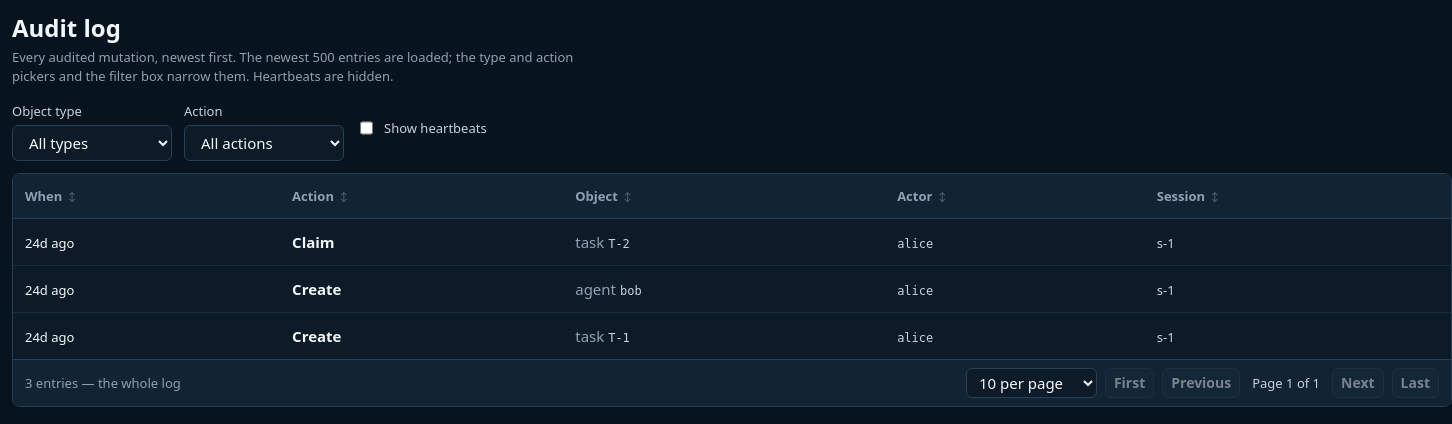
Test: AuditView › makes a picker drive the request, exactly once, and states the reload
The width and height of the screenshot is (1452, 424).
Check: the text "T-2" is shown, box [608, 237, 630, 251]
Select "claim" in the dropdown labelled "Action": (264, 143) [184, 125, 344, 161]
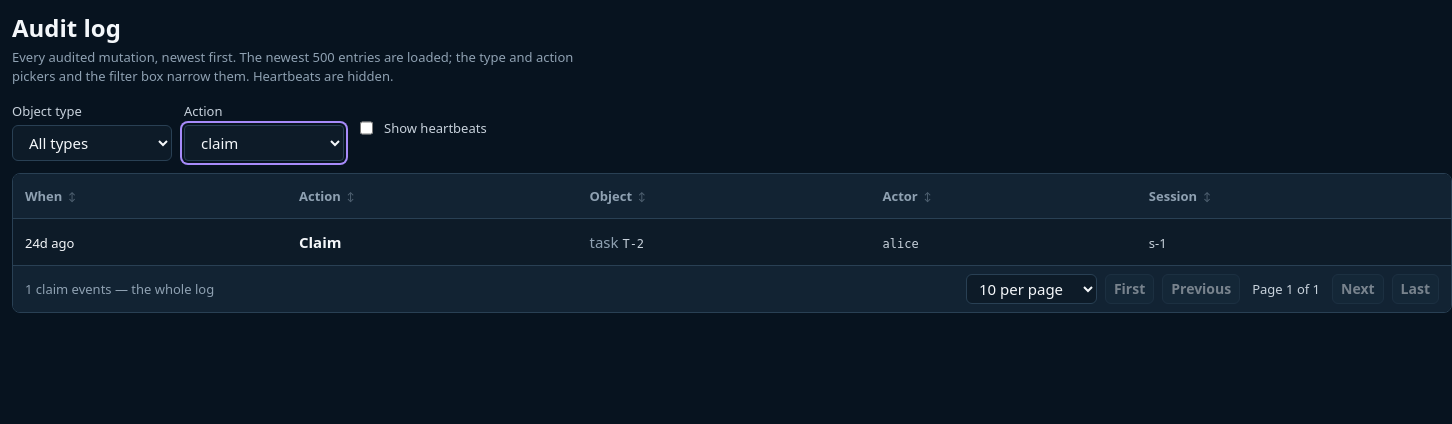
Check: the text "1 claim events — the whole log" is shown, box [25, 280, 214, 298]
Check: the text "bob" is gone
